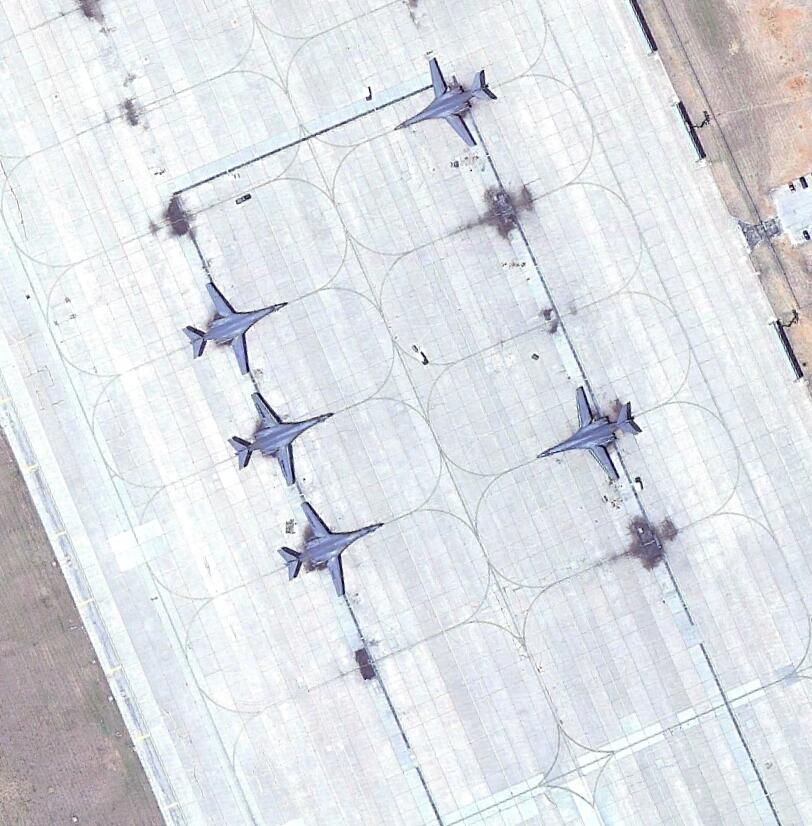A10: (272, 499, 388, 601), (177, 282, 291, 380), (534, 385, 645, 485), (225, 391, 339, 487), (392, 54, 498, 154)
